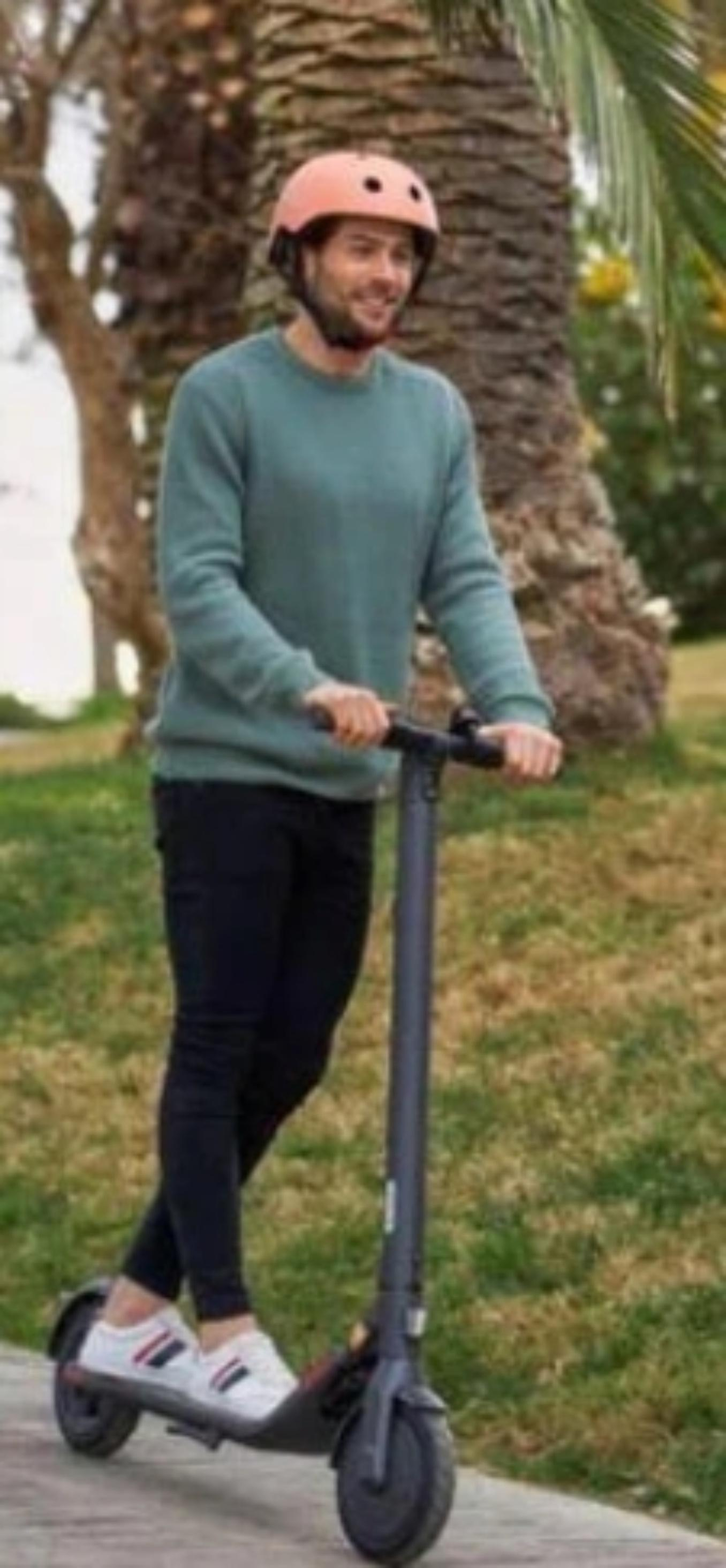helmet: (249, 150, 454, 359)
human: (110, 140, 540, 1376)
kickboard: (25, 1359, 452, 1541)
